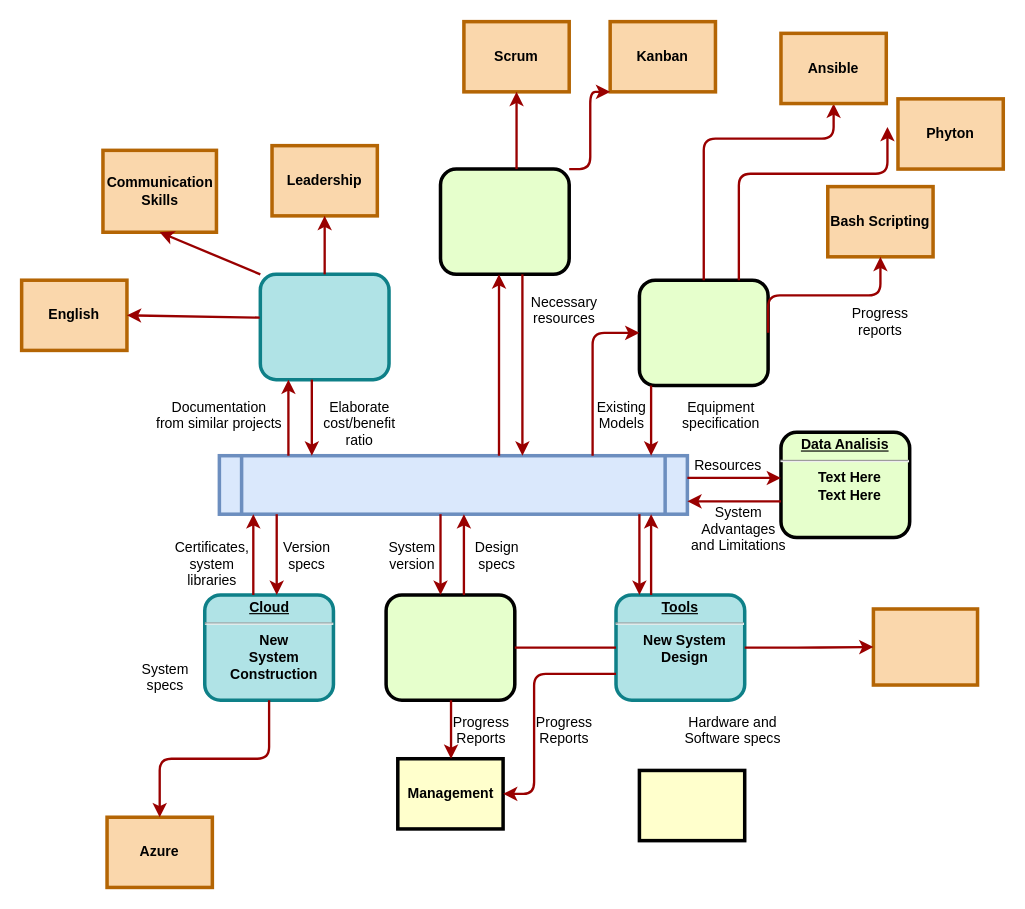
The diagram is 1025 pixels wide and 909 high, and some of its shapes have lost their labels. The shapes that lost their labels are listed below. From the top down, each one's centre as x and y in pixels, then its label:
(x=504, y=221): Project Managment System Analysis
(x=324, y=326): Soft Skills System Study Preparation
(x=703, y=332): Automation Text Here Text Here
(x=453, y=484): Solution Architect
(x=450, y=647): Process 7 New System Startup and Testing
(x=925, y=646): GitHub
(x=691, y=805): Vendors
